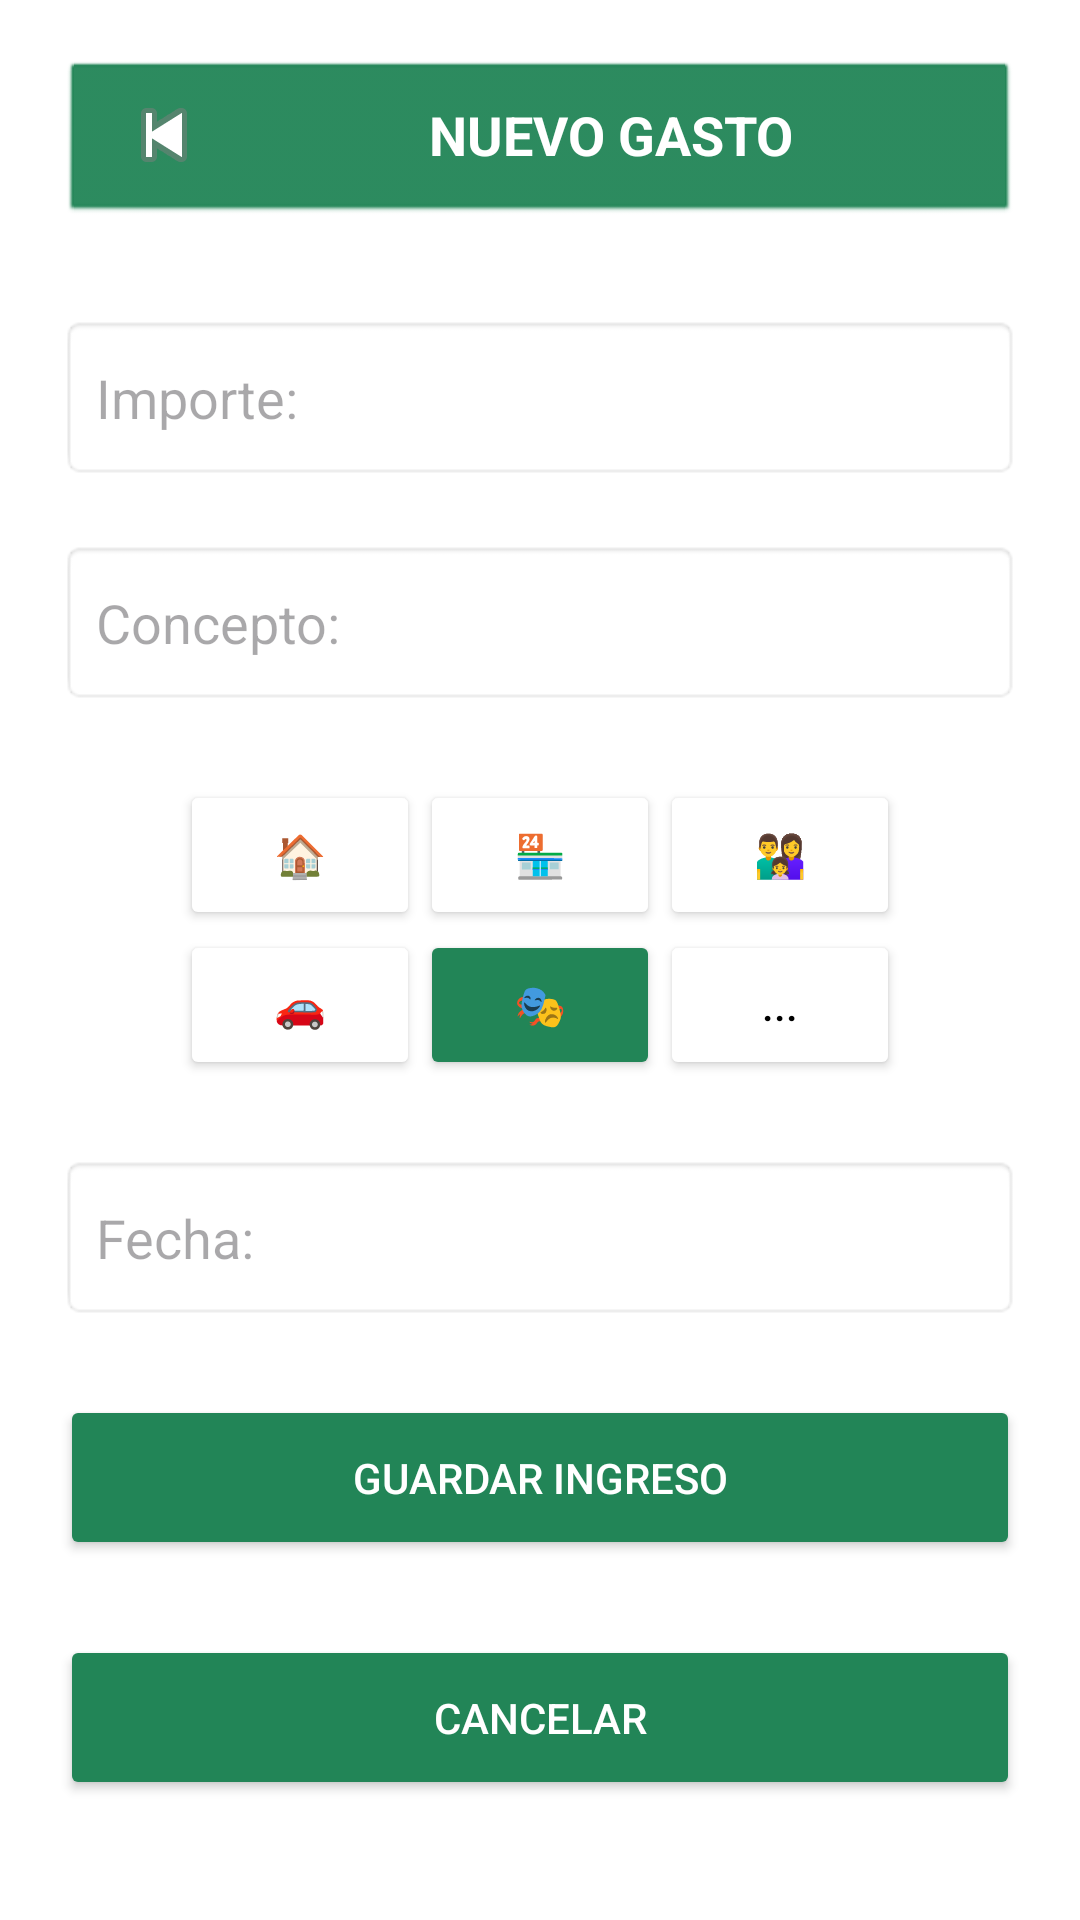

Point at icon controls on the screen. Image size 1080*1920, points as [x,y].
previous: [164,135]
